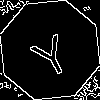Y: (25, 25, 75, 81)
